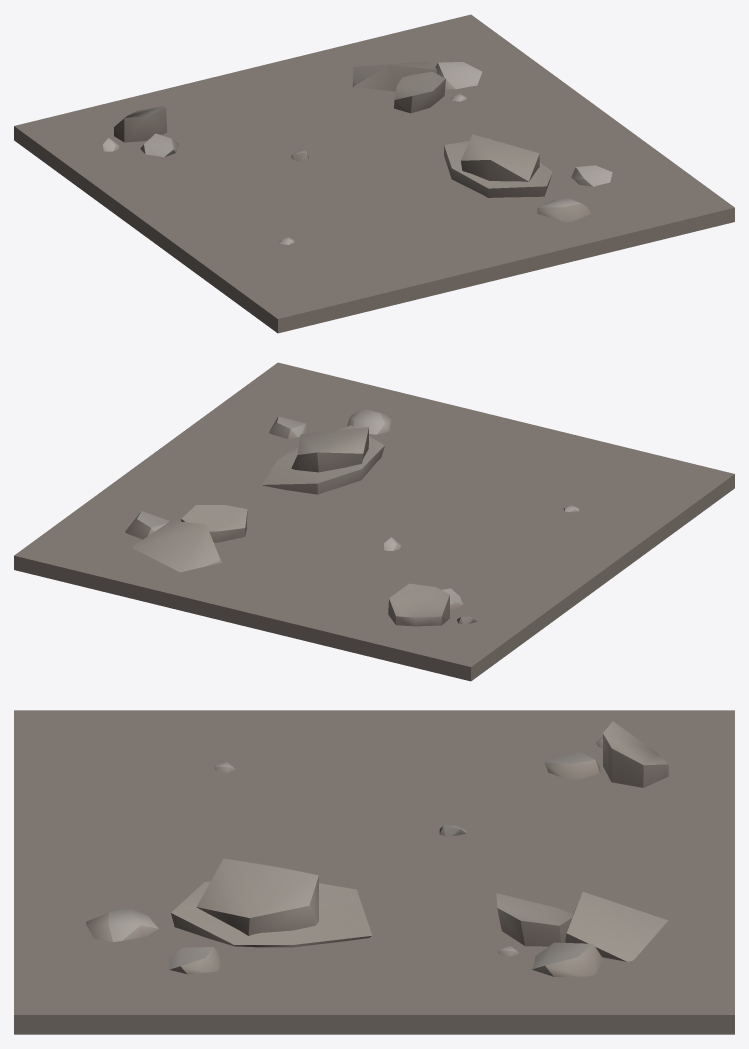
The model's file is floor_dirt_large_rocky.gltf.
The picture shows the model from 3 angles, top to bottom: view 1: azimuth 30°, elevation 25°; view 2: azimuth 150°, elevation 25°; view 3: azimuth 270°, elevation 25°; orthographic projection. The views are drawn at different scales.
Parts seen in each view (by area): view 1: floor_dirt_large_rocky; view 2: floor_dirt_large_rocky; view 3: floor_dirt_large_rocky.
Part boxes in pixels (left/top/right/bottom): floor_dirt_large_rocky: left=14, top=14, right=734, bottom=333; floor_dirt_large_rocky: left=14, top=362, right=734, bottom=681; floor_dirt_large_rocky: left=14, top=710, right=734, bottom=1034.
Size of the model in its own units: 4 by 0.3928 by 4.
Materials: 1 (1 with a texture image).
